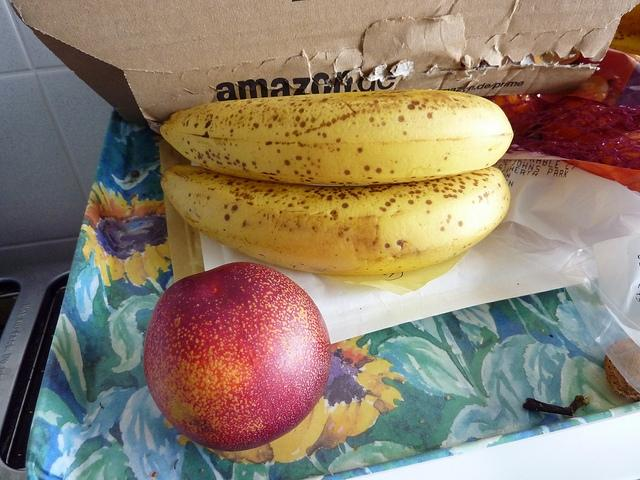apple: (143, 261, 331, 451)
banana: (158, 164, 512, 278), (160, 89, 514, 185)
